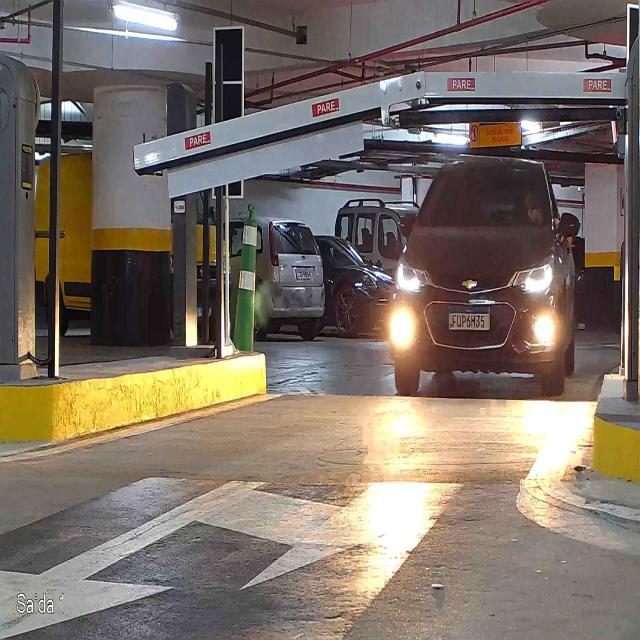mercosul_plate: (446, 304, 493, 332)
